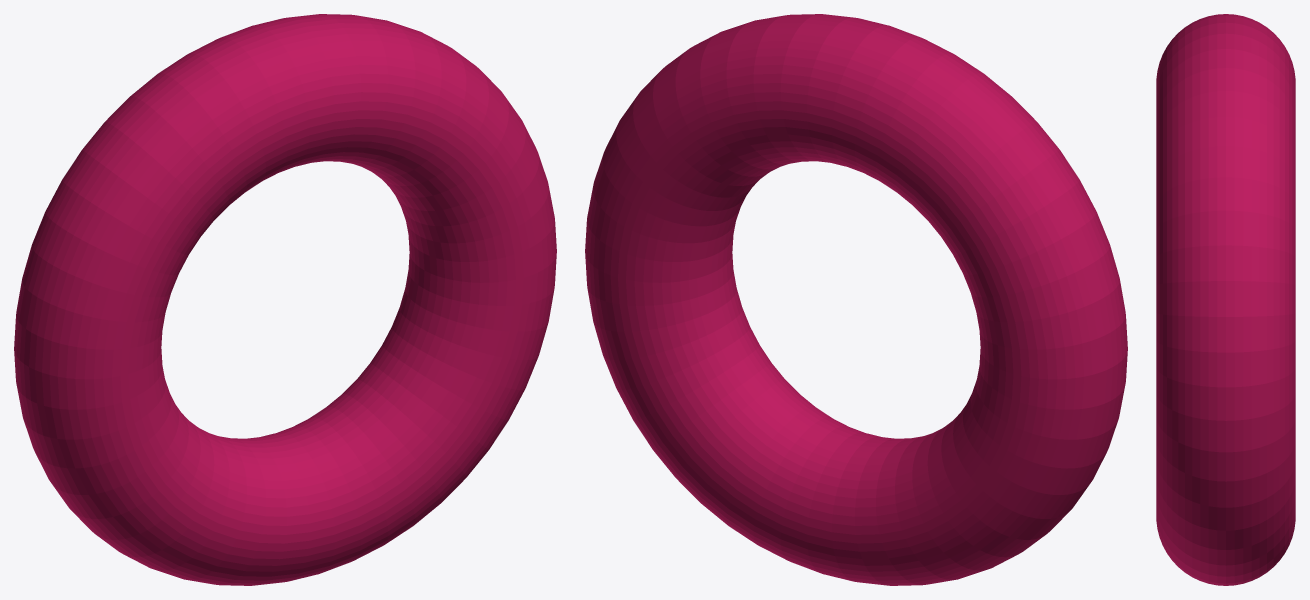
3 renders of one model, left to right at view 1: azimuth 30°, elevation 25°; view 2: azimuth 150°, elevation 25°; view 3: azimuth 270°, elevation 25°, orthographic. The views are drawn at different scales.
Parts seen in each view (by area): view 1: world; view 2: world; view 3: world.
Part boxes in pixels (x1,y1,x2,y2): world: (14,14,556,585); world: (585,14,1127,585); world: (1156,14,1295,585).
Bounding box in the file's own units: 38.8 × 38.72 × 9.45.
